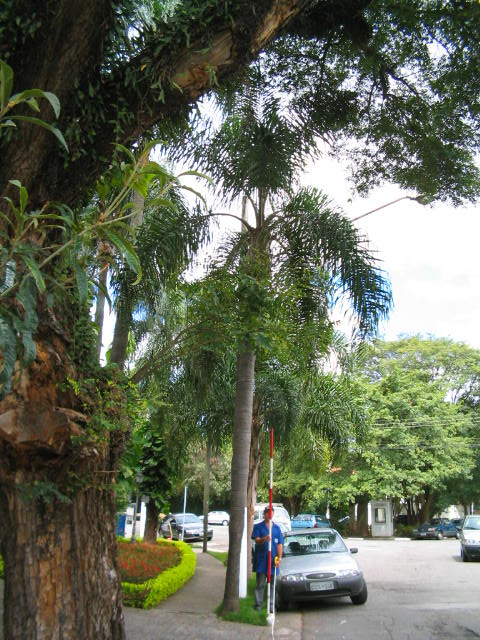crown: (116, 97, 393, 358)
stem: (219, 354, 261, 614)
stick: (261, 427, 280, 616)
tree: (113, 97, 395, 614)
